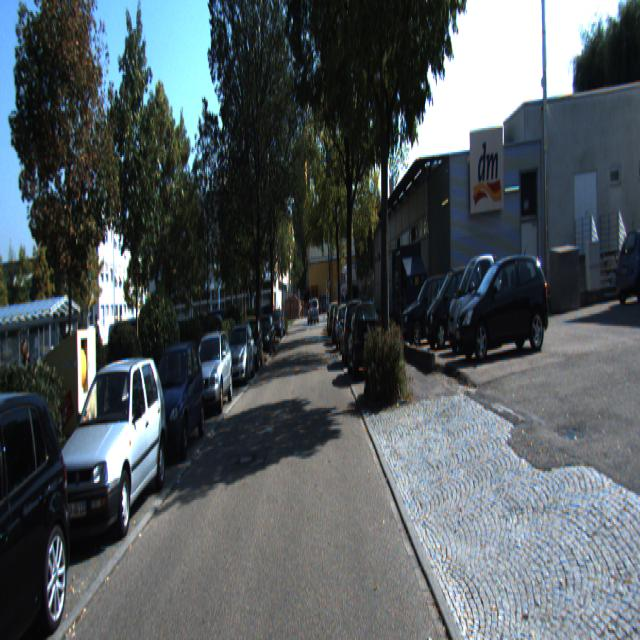Car: (51, 346, 172, 548), (0, 380, 82, 639), (453, 248, 553, 368), (142, 335, 208, 464), (445, 247, 509, 356), (423, 259, 489, 354), (401, 269, 462, 349), (188, 329, 234, 419), (348, 298, 382, 381), (612, 216, 640, 296), (224, 321, 256, 387), (342, 297, 367, 369)
